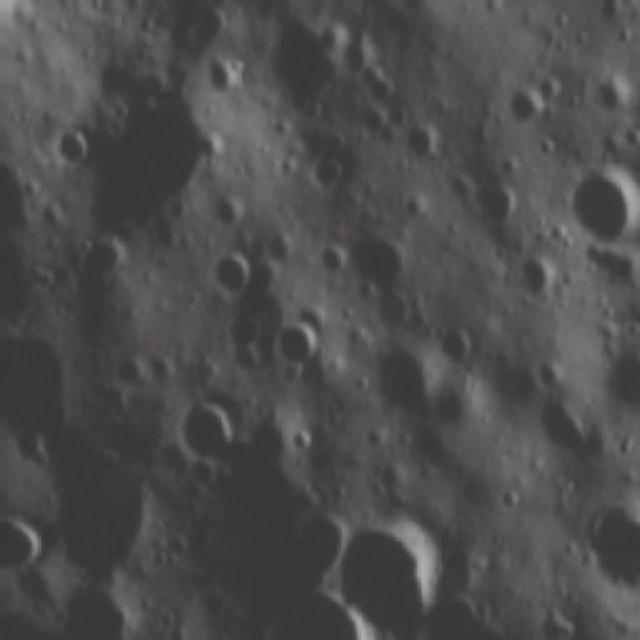crater: (340, 522, 446, 618), (351, 235, 418, 332), (567, 170, 633, 252), (576, 502, 636, 582), (175, 400, 239, 466), (538, 401, 588, 459), (74, 234, 128, 286), (226, 316, 266, 376), (6, 509, 40, 574), (476, 172, 513, 231), (434, 318, 472, 369), (275, 320, 317, 365), (211, 248, 247, 297), (304, 155, 350, 191), (206, 48, 243, 92), (517, 254, 552, 300), (50, 132, 88, 172), (544, 215, 576, 251), (287, 422, 315, 460), (190, 130, 218, 168), (504, 92, 541, 120), (601, 19, 636, 47), (611, 427, 632, 462), (530, 135, 561, 157), (619, 122, 639, 152), (499, 490, 521, 513)
